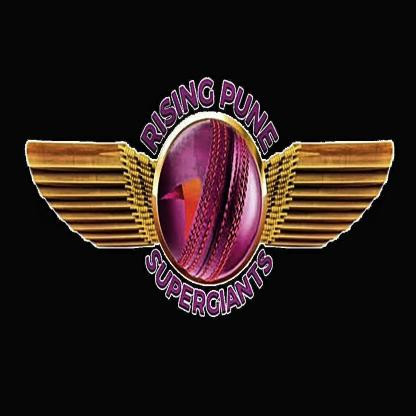Rising Pune Supergiants: (16, 64, 416, 327)
